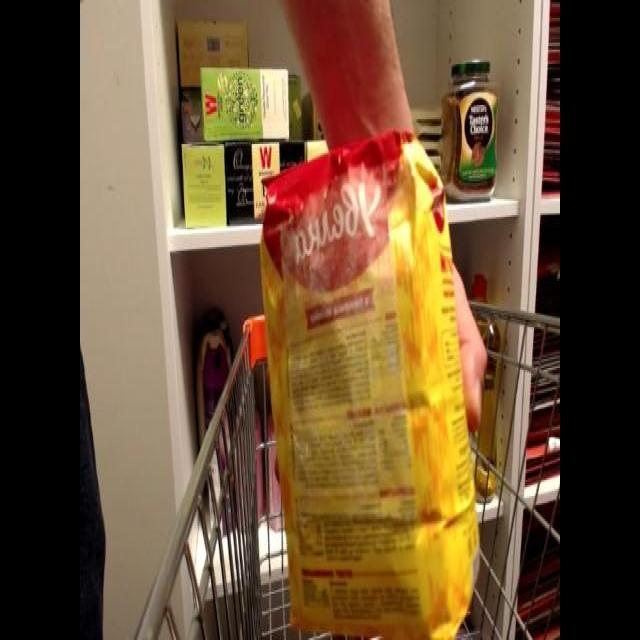Flour: (258, 120, 474, 637)
